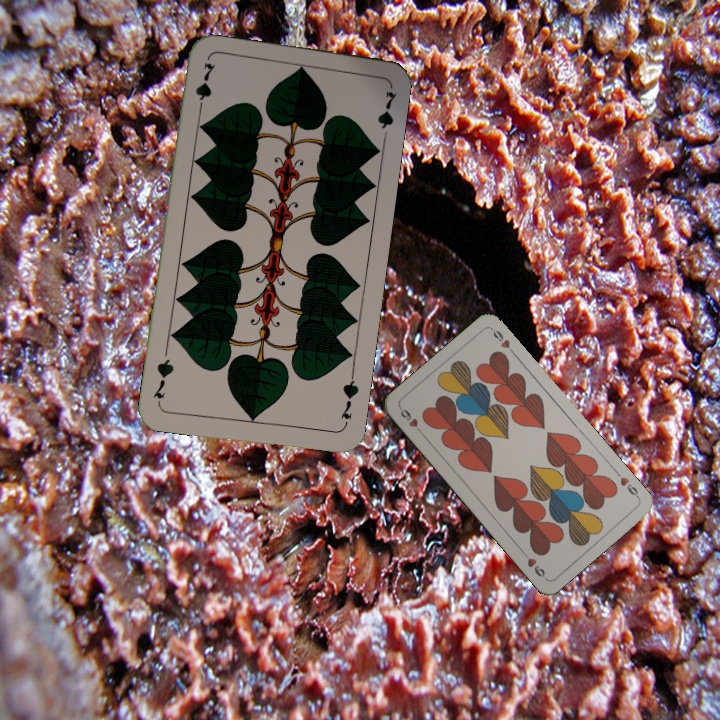G7: (191, 59, 218, 118), (336, 371, 361, 430)
H9: (396, 403, 426, 437), (616, 473, 642, 501)
